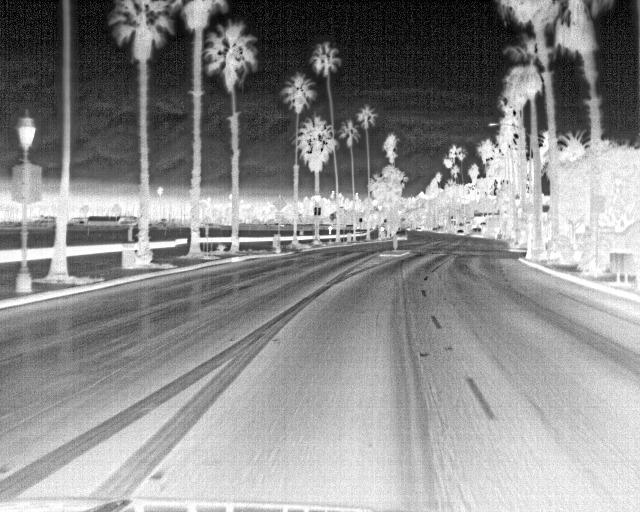car: (393, 228, 409, 241), (468, 225, 482, 238), (456, 227, 466, 238)
